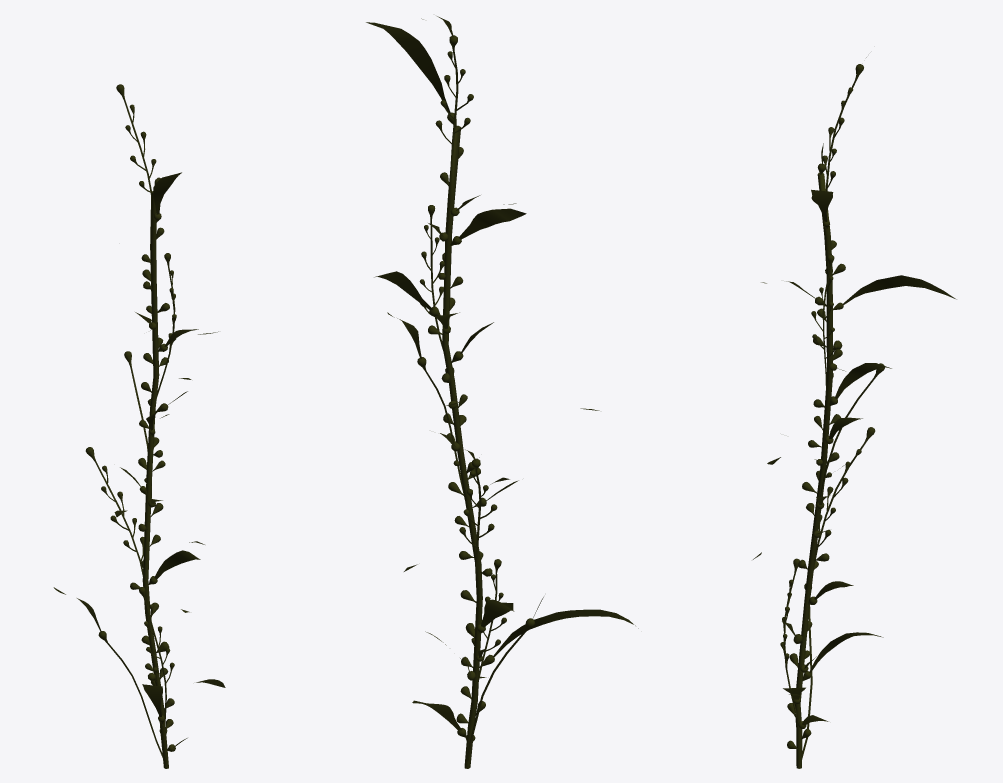
The model's file is SM_ocean_Kelp_02.fbx.
The picture shows the model from 3 angles, left to right: view 1: azimuth 30°, elevation 25°; view 2: azimuth 150°, elevation 25°; view 3: azimuth 270°, elevation 25°; orthographic projection. The views are drawn at different scales.
Visible parts, largest first — view 1: SM_ocean_Kelp_02_LOD0; view 2: SM_ocean_Kelp_02_LOD0; view 3: SM_ocean_Kelp_02_LOD0.
Boxes of the visible parts, bbox=[...] form: SM_ocean_Kelp_02_LOD0: bbox=[53, 84, 225, 768]; SM_ocean_Kelp_02_LOD0: bbox=[366, 16, 638, 768]; SM_ocean_Kelp_02_LOD0: bbox=[753, 57, 956, 768].
Size of what is drawn, in the model's own units: 294 by 302 by 775.
